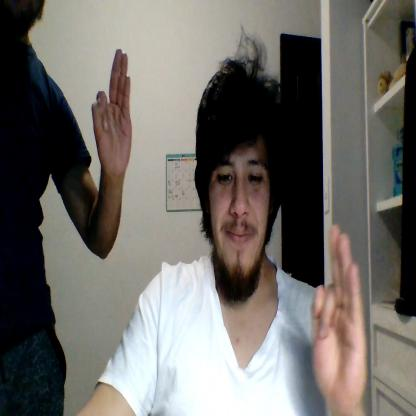F: (312, 224, 367, 402), (91, 49, 133, 176)
